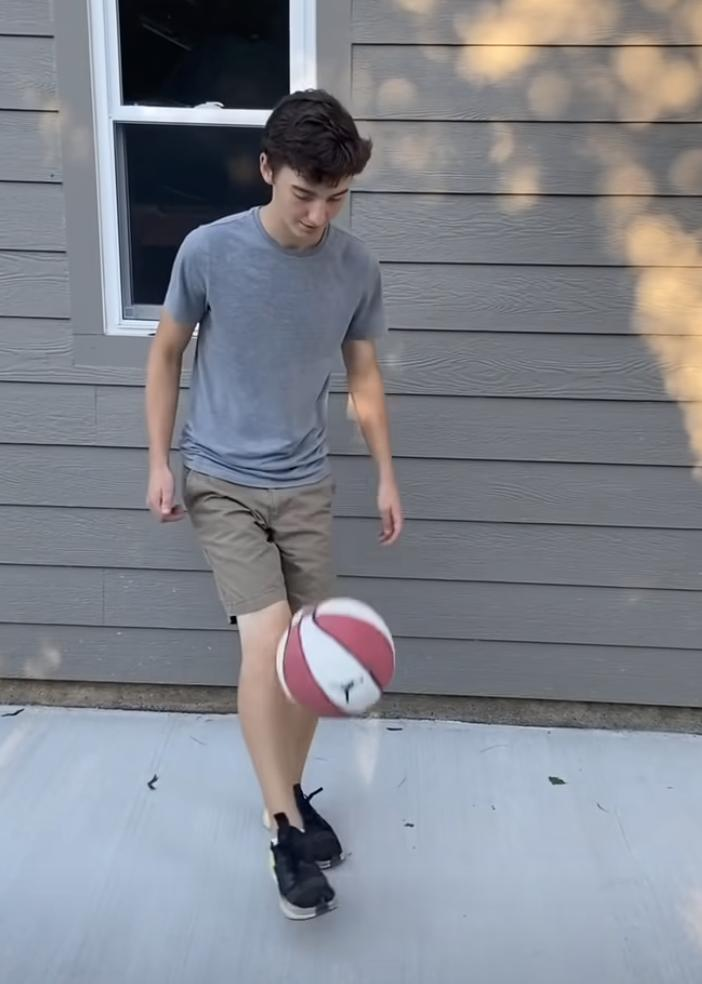ball: (277, 599, 397, 717)
foot: (267, 808, 340, 923)
person: (146, 90, 406, 920)
